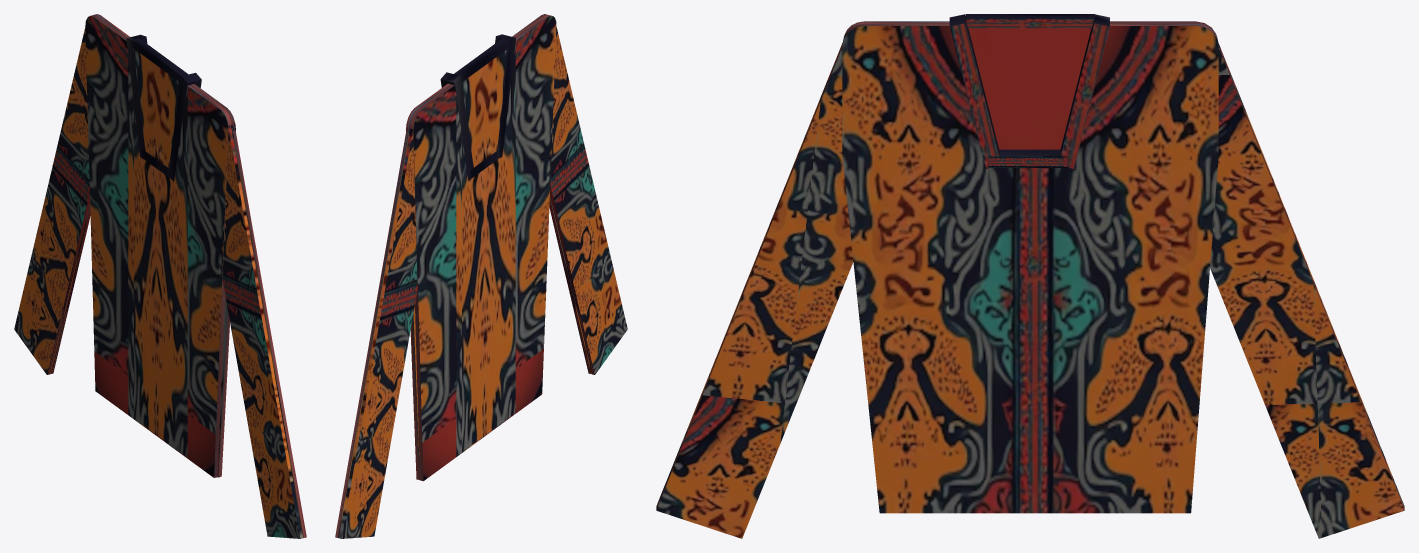
Rendered from Guayabera1_6.obj.
The picture shows the model from 3 angles, left to right: view 1: azimuth 30°, elevation 25°; view 2: azimuth 150°, elevation 25°; view 3: azimuth 270°, elevation 25°; orthographic projection. The views are drawn at different scales.
Visible parts, largest first — view 1: Guayabera1; view 2: Guayabera1; view 3: Guayabera1.
Boxes of the visible parts, left/top/right/bottom form: Guayabera1: left=14, top=14, right=306, bottom=538; Guayabera1: left=335, top=14, right=627, bottom=538; Guayabera1: left=656, top=14, right=1404, bottom=538.
Bounding box in the file's own units: 0.0201 × 0.5339 × 0.6959.
1 material, 1 textured.
